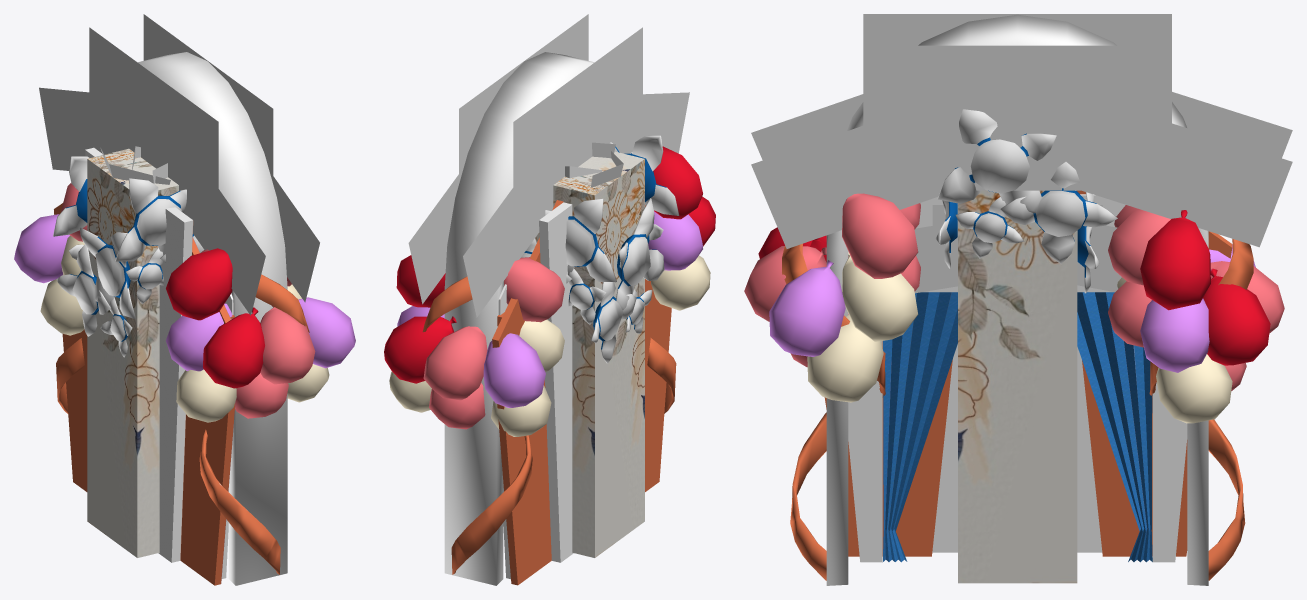
The model's file is VenueDecoration.fbx.
3 renders of one model, left to right at view 1: azimuth 30°, elevation 25°; view 2: azimuth 150°, elevation 25°; view 3: azimuth 270°, elevation 25°, orthographic. The views are drawn at different scales.
Visible parts, largest first — view 1: GateDecor, StandDecor, Pelaminan, BuketBungaDecor; view 2: GateDecor, StandDecor, Pelaminan, BuketBungaDecor; view 3: GateDecor, StandDecor, Pelaminan.
Part boxes in pixels (box(x1,y1,x2,y2)): GateDecor: box(14, 14, 355, 585); StandDecor: box(53, 148, 204, 557); Pelaminan: box(54, 147, 236, 585); BuketBungaDecor: box(100, 146, 170, 184); GateDecor: box(384, 14, 715, 585); StandDecor: box(521, 135, 679, 557); Pelaminan: box(492, 152, 671, 585); BuketBungaDecor: box(565, 142, 623, 187); GateDecor: box(744, 14, 1292, 585); StandDecor: box(935, 109, 1117, 583); Pelaminan: box(824, 190, 1232, 562).
Size of the model in its own units: 1.05 by 2.52 by 2.3.
